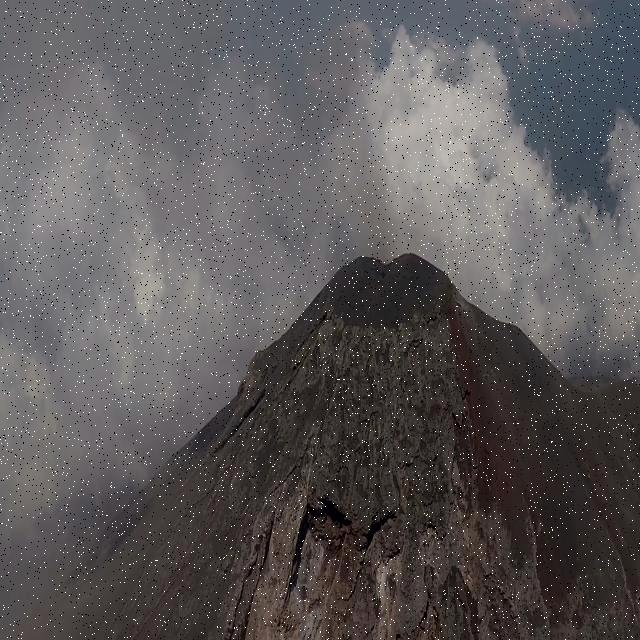Summit: (61, 235, 640, 640)
